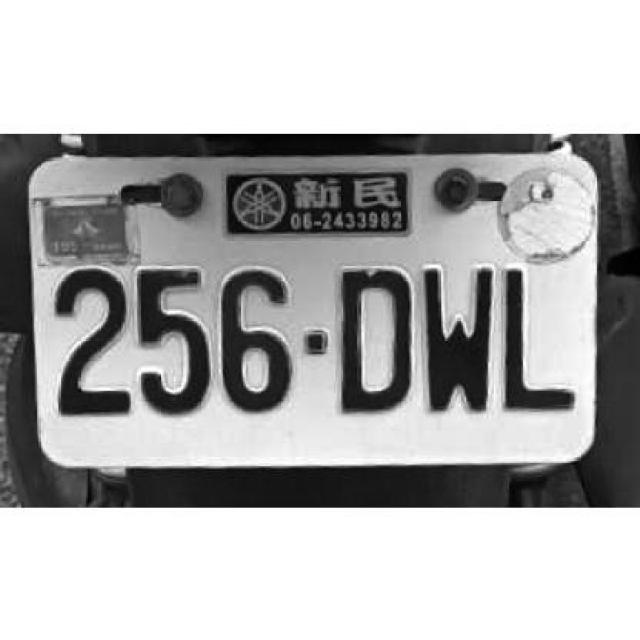-: (302, 326, 329, 360)
2: (52, 263, 130, 420)
5: (135, 255, 211, 420)
6: (216, 258, 296, 416)
D: (338, 263, 414, 414)
L: (505, 268, 577, 412)
W: (418, 264, 496, 414)
